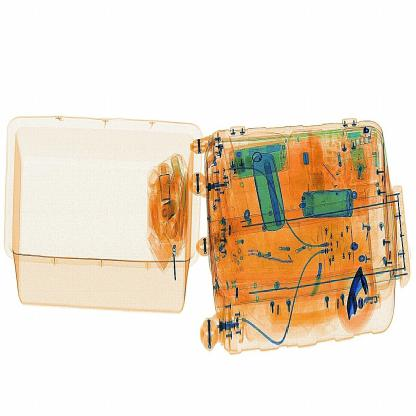wrench: (309, 261, 326, 300)
